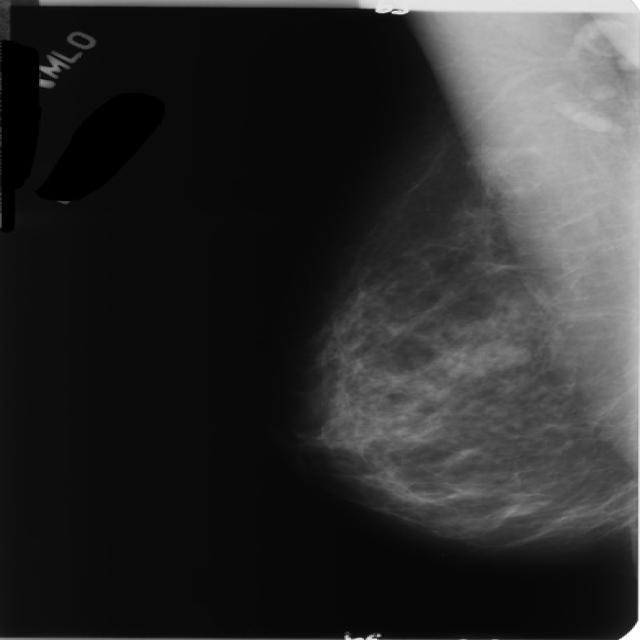tumour: (465, 337, 529, 369)
